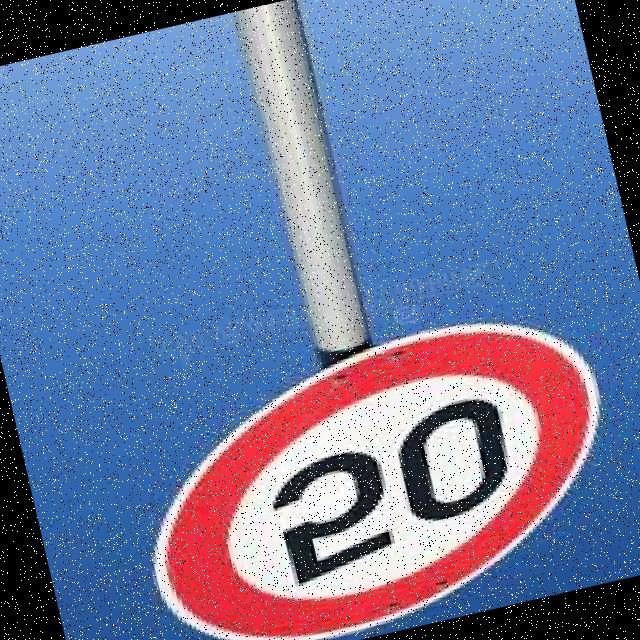speed_limit_50: (103, 285, 640, 640)
